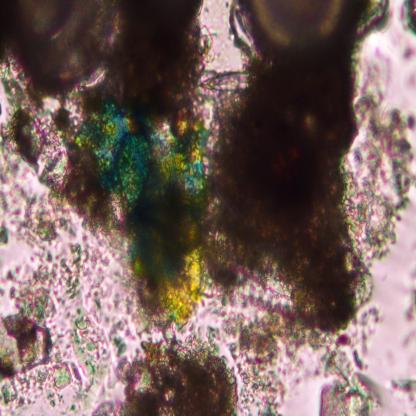Background material: (201, 66, 380, 343), (218, 283, 310, 414), (118, 0, 211, 116), (354, 90, 416, 258), (114, 337, 238, 414), (0, 86, 71, 186), (86, 233, 148, 329), (9, 242, 87, 314), (71, 309, 127, 392), (316, 348, 382, 416), (0, 363, 84, 413), (0, 314, 55, 379), (66, 165, 116, 234), (6, 186, 66, 242), (347, 0, 391, 49), (386, 372, 416, 401), (396, 0, 416, 38), (391, 38, 416, 65), (0, 192, 10, 256), (403, 284, 416, 330), (404, 69, 416, 92)
Diatom: (6, 0, 125, 92), (245, 0, 347, 66), (200, 70, 255, 91)
Natural material: (70, 94, 207, 330)
